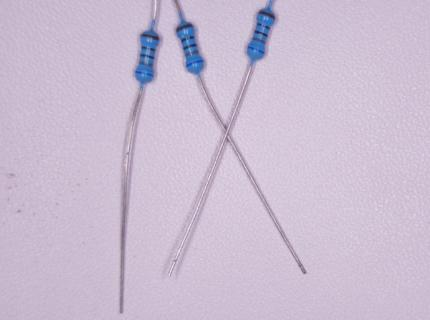Black band: (184, 43, 197, 51), (255, 30, 268, 38), (180, 36, 194, 43), (258, 23, 270, 30), (140, 54, 155, 59), (142, 47, 155, 51)
Blue band: (248, 46, 265, 54), (186, 60, 203, 67), (136, 71, 153, 77)
Brown band: (259, 10, 275, 19), (141, 34, 159, 41), (177, 24, 192, 32)
Grey band: (185, 50, 198, 57), (253, 37, 266, 44), (139, 61, 153, 67)
